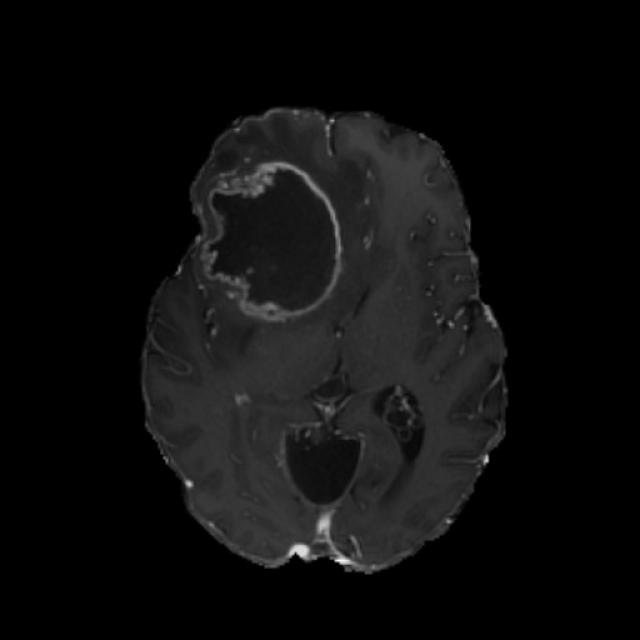negative: (202, 162, 342, 321)
